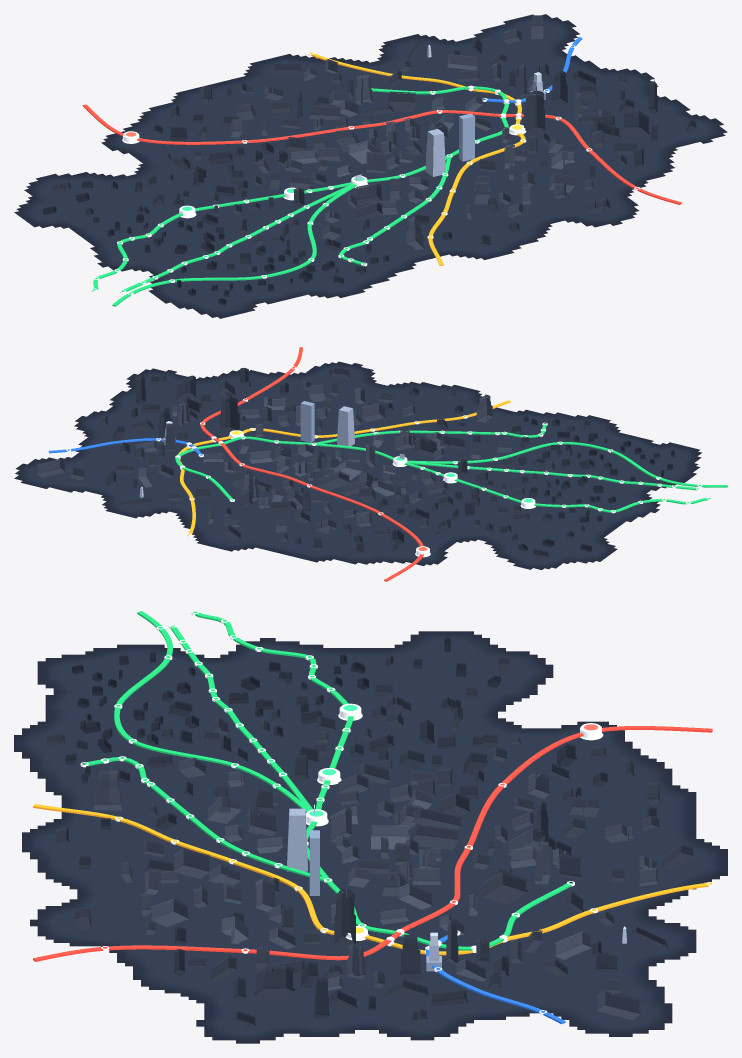
File: boston-map-sculpture.glb
3 renders of one model, top to bottom at view 1: azimuth 30°, elevation 25°; view 2: azimuth 150°, elevation 25°; view 3: azimuth 270°, elevation 25°, orthographic. The views are drawn at different scales.
Visible parts, largest first — view 1: City blocks, Lacquer #00843D, Lacquer #DA291C, Station markers, Landmark stone, Lacquer #ED8B00; view 2: City blocks, Lacquer #00843D, Station markers, Lacquer #DA291C, Landmark stone, Lacquer #ED8B00, Lacquer #003DA5; view 3: City blocks, Lacquer #00843D, Lacquer #DA291C, Station markers, Lacquer #ED8B00, Landmark stone, Lacquer #003DA5.
Boxes of the visible parts, <box> form: City blocks: <box>14,14,727,318</box>; Lacquer #00843D: <box>93,86,508,306</box>; Lacquer #DA291C: <box>82,104,681,204</box>; Station markers: <box>91,45,640,295</box>; Landmark stone: <box>425,45,545,176</box>; Lacquer #ED8B00: <box>309,52,525,265</box>; City blocks: <box>14,361,701,569</box>; Lacquer #00843D: <box>175,423,727,512</box>; Station markers: <box>66,366,711,557</box>; Lacquer #DA291C: <box>200,347,423,581</box>; Landmark stone: <box>139,401,354,497</box>; Lacquer #ED8B00: <box>177,400,510,534</box>; Lacquer #003DA5: <box>48,438,202,455</box>; City blocks: <box>14,631,727,1043</box>; Lacquer #00843D: <box>83,611,572,950</box>; Lacquer #DA291C: <box>33,726,712,961</box>; Station markers: <box>80,610,714,1015</box>; Lacquer #ED8B00: <box>33,804,712,955</box>; Landmark stone: <box>287,808,626,971</box>; Lacquer #003DA5: <box>426,935,565,1024</box>.
Size of the model in its own units: 1.54 by 0.1001 by 1.08.
